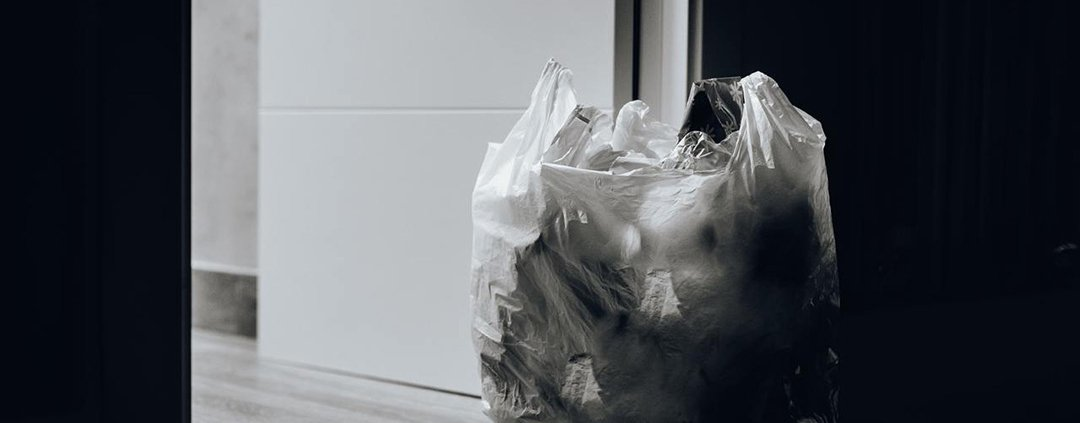plastic_bagwdw: (426, 45, 883, 423)
